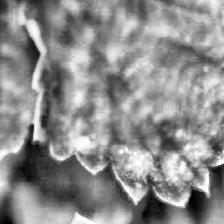Powdery Mildew Leaf: (13, 0, 224, 210), (0, 0, 38, 207)
